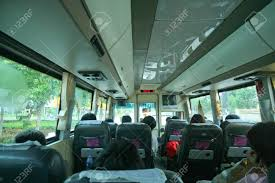seat: (114, 119, 143, 142)
